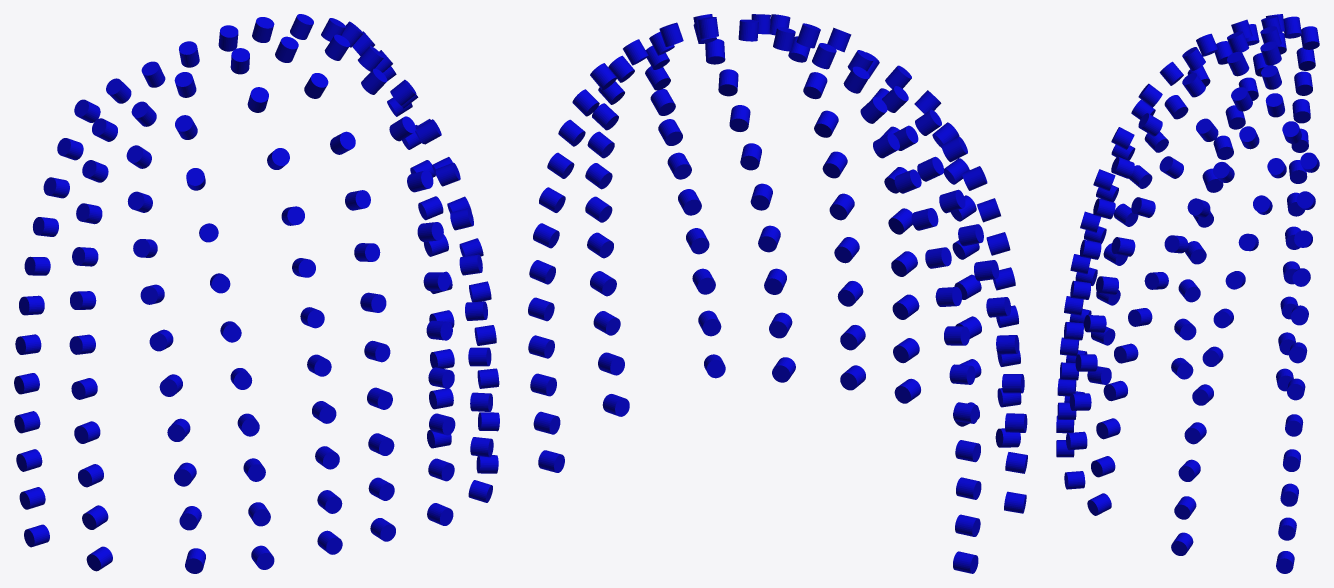
The model's file is left_index_tactile_link_2.obj.
3 renders of one model, left to right at view 1: azimuth 30°, elevation 25°; view 2: azimuth 150°, elevation 25°; view 3: azimuth 270°, elevation 25°, orthographic. The views are drawn at different scales.
Size of the model in its own units: 0.0267 by 0.0282 by 0.0152.
